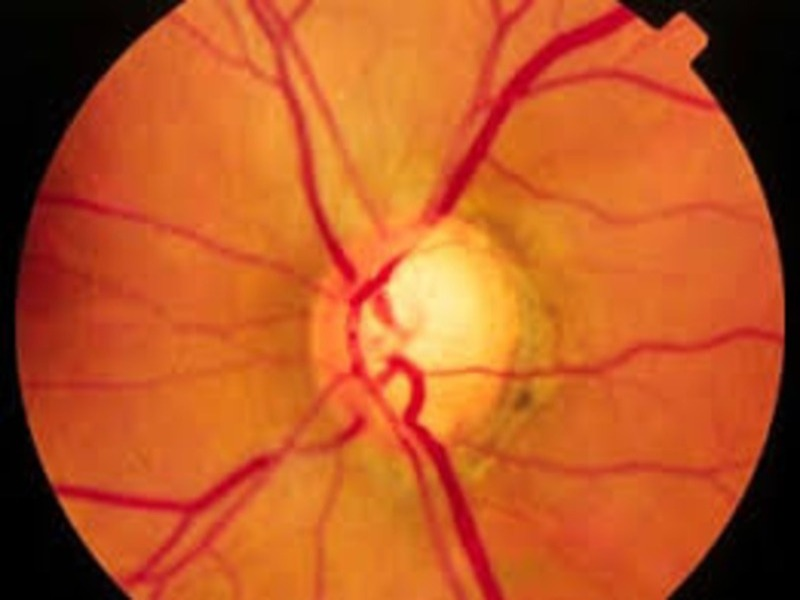Optic Cup: (378, 249, 479, 376)
Optic Disc: (307, 206, 516, 453)
